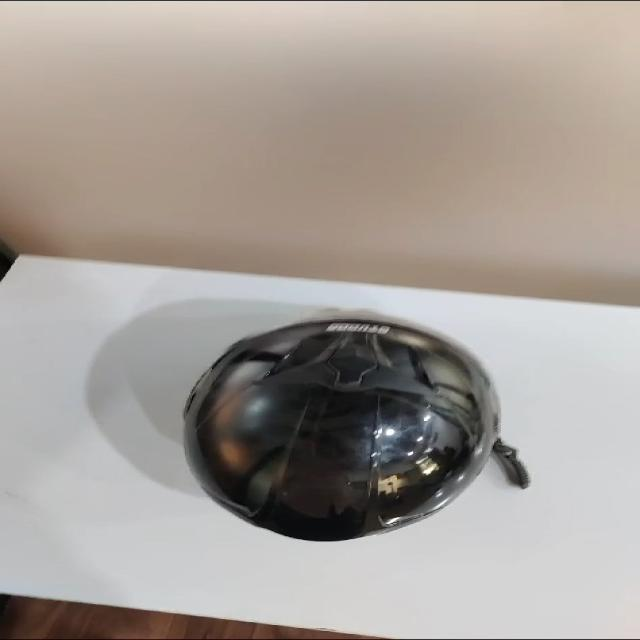helmet: (173, 312, 504, 559)
